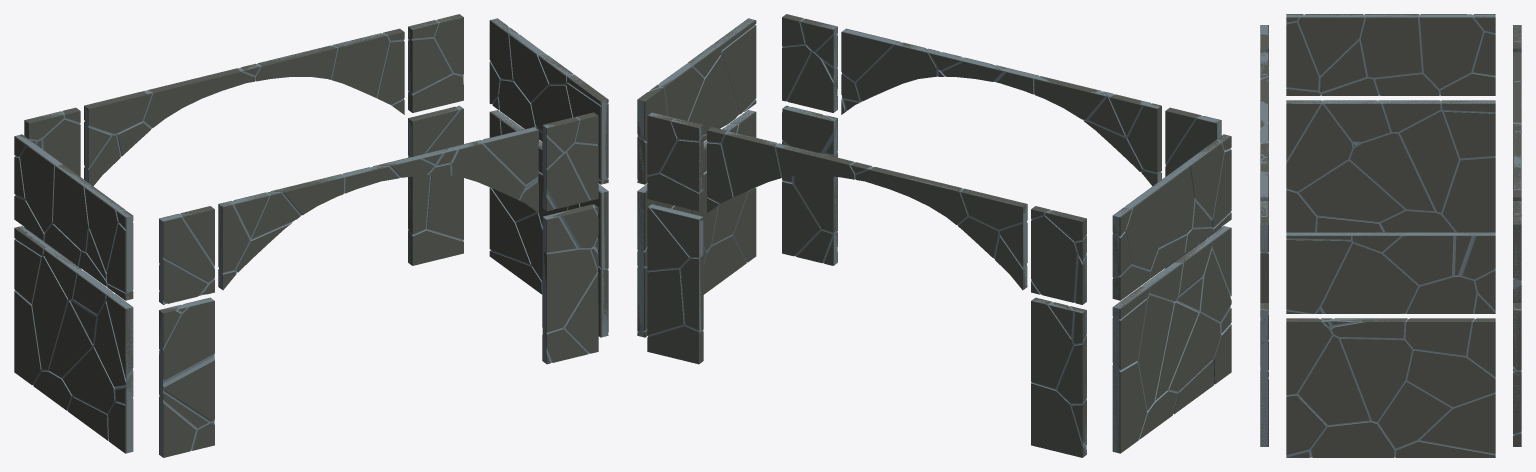
Rendered from BigArchStone.fbx.
3 views of the same model, side by side, from view 1: azimuth 30°, elevation 25°; view 2: azimuth 150°, elevation 25°; view 3: azimuth 270°, elevation 25° (orthographic). The views are drawn at different scales.
Parts seen in each view (by area): view 1: BigArchStone; view 2: BigArchStone; view 3: BigArchStone.
Boxes of the visible parts, x1=… form: BigArchStone: x1=14, y1=14, x2=608, y2=457; BigArchStone: x1=637, y1=14, x2=1231, y2=457; BigArchStone: x1=1260, y1=14, x2=1521, y2=457.
Bounding box in the file's own units: 600 × 299 × 280.
